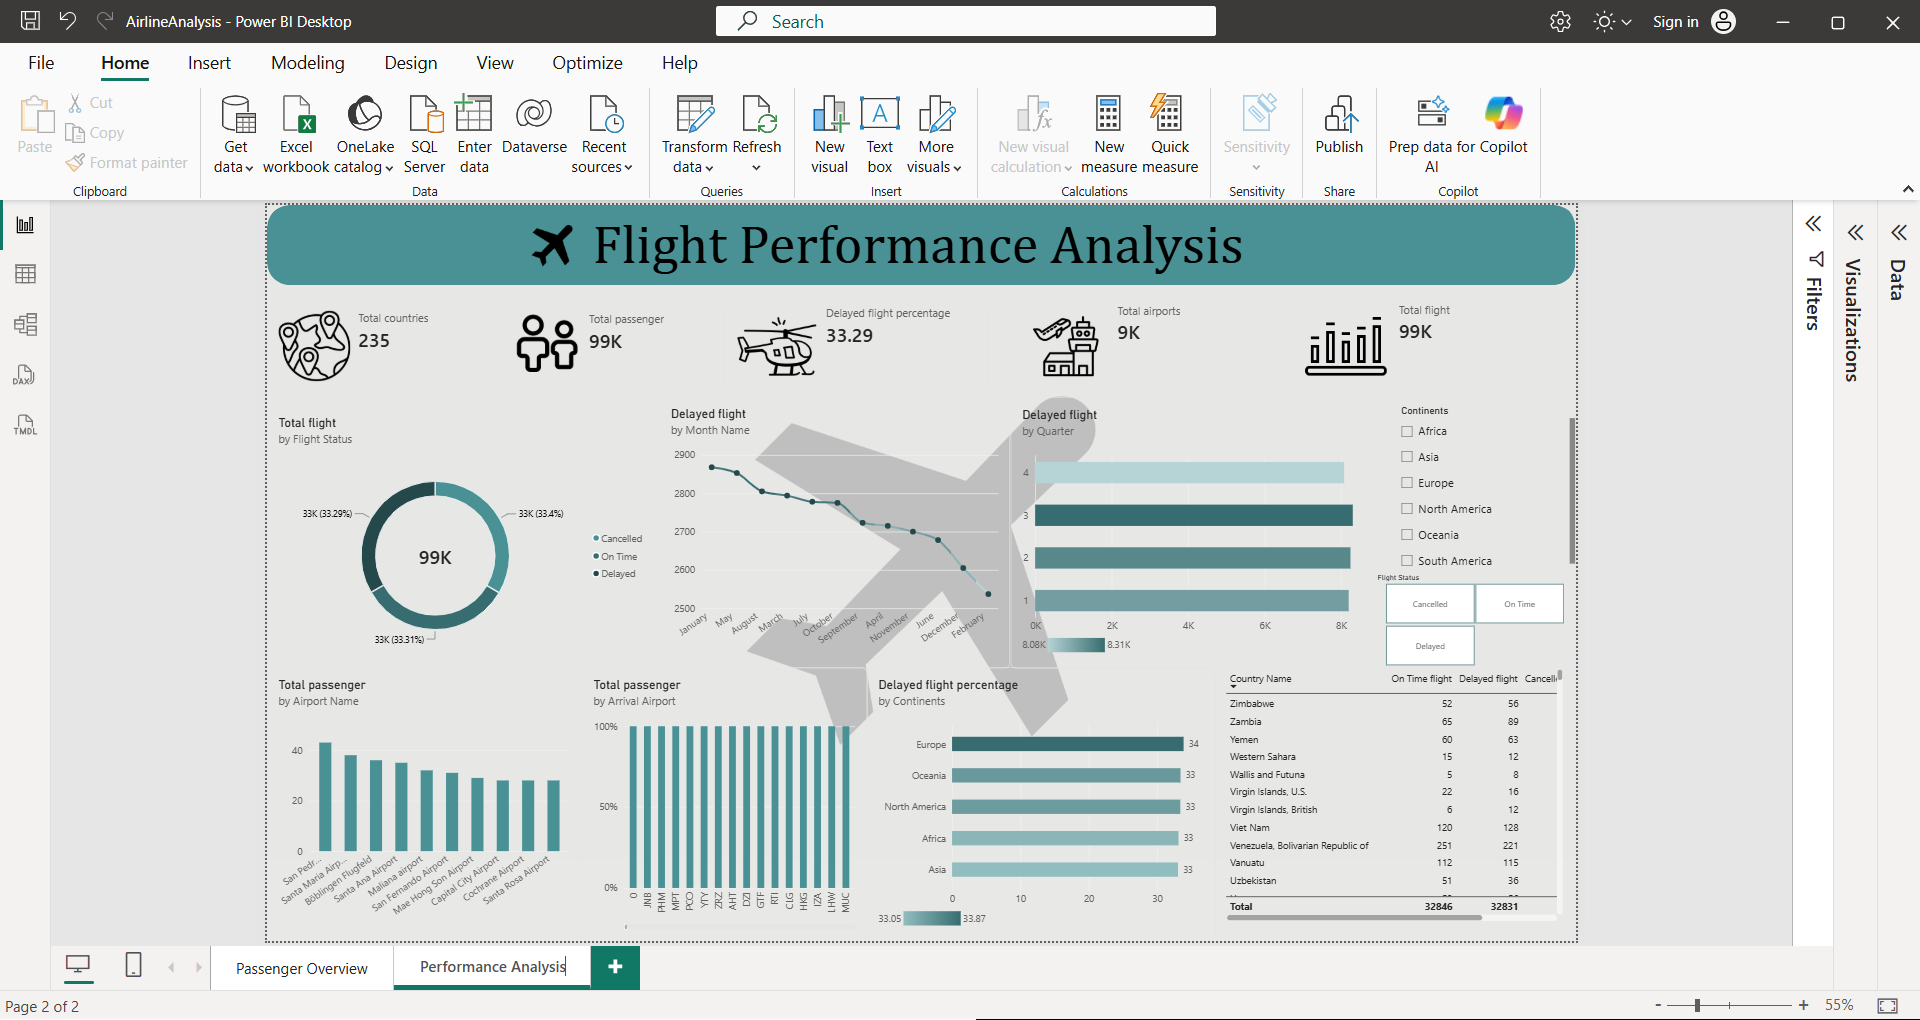

The page's visual inventory and layout, read from the dashboard file:
{"tool":"powerbi","page":{"name":"Performance Analysis","canvas":[1920,1080],"ordinal":1},"visuals":[{"type":"shape","box":[0,0,1920.1,117.6],"z":0},{"type":"cardVisual","title":"\tCountries Covered","fields":{"Data":["Airline Dataset Updated - v2.Total countries"]},"box":[0,132.1,344.8,150.4],"z":1000},{"type":"cardVisual","fields":{"Data":["Airline Dataset Updated - v2.On Time flight percentage"]},"box":[671.3,132.1,387,150.4],"z":2000},{"type":"cardVisual","fields":{"Data":["Airline Dataset Updated - v2.Total passenger"]},"box":[344.8,130.2,326.5,150.4],"z":3000},{"type":"cardVisual","fields":{"Data":["Airline Dataset Updated - v2.Total airports"]},"box":[1091.4,132.1,409,150.4],"z":4000},{"type":"cardVisual","fields":{"Data":["Airline Dataset Updated - v2.Total flight"]},"box":[1500.4,132.1,420,150.4],"z":5000},{"type":"donutChart","fields":{"Category":["Airline Dataset Updated - v2.Flight Status"],"Y":["Airline Dataset Updated - v2.Total flight"]},"box":[0,294.3,577.3,383.6],"z":6000},{"type":"columnChart","fields":{"Category":["Airline Dataset Updated - v2.Airport Name"],"Y":["Airline Dataset Updated - v2.Total passenger"]},"box":[0,678.7,462.2,401.7],"z":7000},{"type":"clusteredBarChart","fields":{"Category":["Airline Dataset Updated - v2.Continents"],"Y":["Airline Dataset Updated - v2.On Time flight percentage"]},"box":[880.4,678.7,511.8,401.7],"z":8000},{"type":"tableEx","fields":{"Values":["Airline Dataset Updated - v2.Country Name","Airline Dataset Updated - v2.On Time flight","Airline Dataset Updated - v2.Delayed flight","Airline Dataset Updated - v2.Cancelledd flight","Airline Dataset Updated - v2.Total flight"]},"box":[1390.9,665.5,528.3,401.7],"z":9000},{"type":"image","box":[165.1,29.3,506.3,60.5],"z":10000},{"type":"hundredPercentStackedColumnChart","fields":{"Category":["Airline Dataset Updated - v2.Arrival Airport"],"Y":["Airline Dataset Updated - v2.Total passenger"]},"box":[462.2,678.7,418.2,401.7],"z":11000},{"type":"lineChart","fields":{"Category":["Airline Dataset Updated - v2.Month Name"],"Y":["Airline Dataset Updated - v2.Delayed flight"]},"box":[576.3,279.9,514.6,399.3],"z":12000},{"type":"barChart","fields":{"Category":["Airline Dataset Updated - v2.Quarter"],"Y":["Airline Dataset Updated - v2.Delayed flight"]},"box":[1090.9,282,566,397.3],"z":13000},{"type":"slicer","fields":{"Values":["Airline Dataset Updated - v2.Continents"]},"box":[1657,294.3,263.5,244.9],"z":13001},{"type":"slicer","fields":{"Values":["Airline Dataset Updated - v2.Flight Status"]},"box":[1622,539.3,300.5,137.9],"z":13002}]}

Visuals, with their boxes on the page's 1920x1080 design canvas (x1, y1, x2, y2). These are canvas units, not pixel positions in the 1920x1020 screenshot, which may show the page scaled, cropped or inside an application window:
shape: region(0, 0, 1920, 118)
"	Countries Covered" cardVisual: region(0, 132, 345, 282)
cardVisual - Airline Dataset Updated - v2.On Time flight percentage: region(671, 132, 1058, 282)
cardVisual - Airline Dataset Updated - v2.Total passenger: region(345, 130, 671, 281)
cardVisual - Airline Dataset Updated - v2.Total airports: region(1091, 132, 1500, 282)
cardVisual - Airline Dataset Updated - v2.Total flight: region(1500, 132, 1920, 282)
donutChart - Airline Dataset Updated - v2.Flight Status x Airline Dataset Updated - v2.Total flight: region(0, 294, 577, 678)
columnChart - Airline Dataset Updated - v2.Airport Name x Airline Dataset Updated - v2.Total passenger: region(0, 679, 462, 1080)
clusteredBarChart - Airline Dataset Updated - v2.Continents x Airline Dataset Updated - v2.On Time flight percentage: region(880, 679, 1392, 1080)
tableEx - Airline Dataset Updated - v2.Country Name x Airline Dataset Updated - v2.On Time flight: region(1391, 666, 1919, 1067)
image: region(165, 29, 671, 90)
hundredPercentStackedColumnChart - Airline Dataset Updated - v2.Arrival Airport x Airline Dataset Updated - v2.Total passenger: region(462, 679, 880, 1080)
lineChart - Airline Dataset Updated - v2.Month Name x Airline Dataset Updated - v2.Delayed flight: region(576, 280, 1091, 679)
barChart - Airline Dataset Updated - v2.Quarter x Airline Dataset Updated - v2.Delayed flight: region(1091, 282, 1657, 679)
slicer - Airline Dataset Updated - v2.Continents: region(1657, 294, 1920, 539)
slicer - Airline Dataset Updated - v2.Flight Status: region(1622, 539, 1922, 677)
